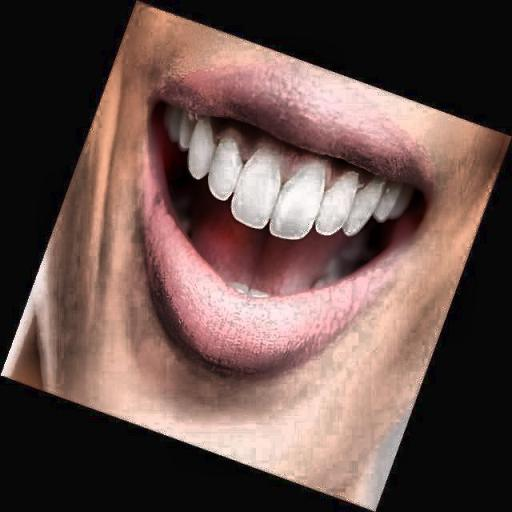Healthy: (103, 29, 426, 385)
